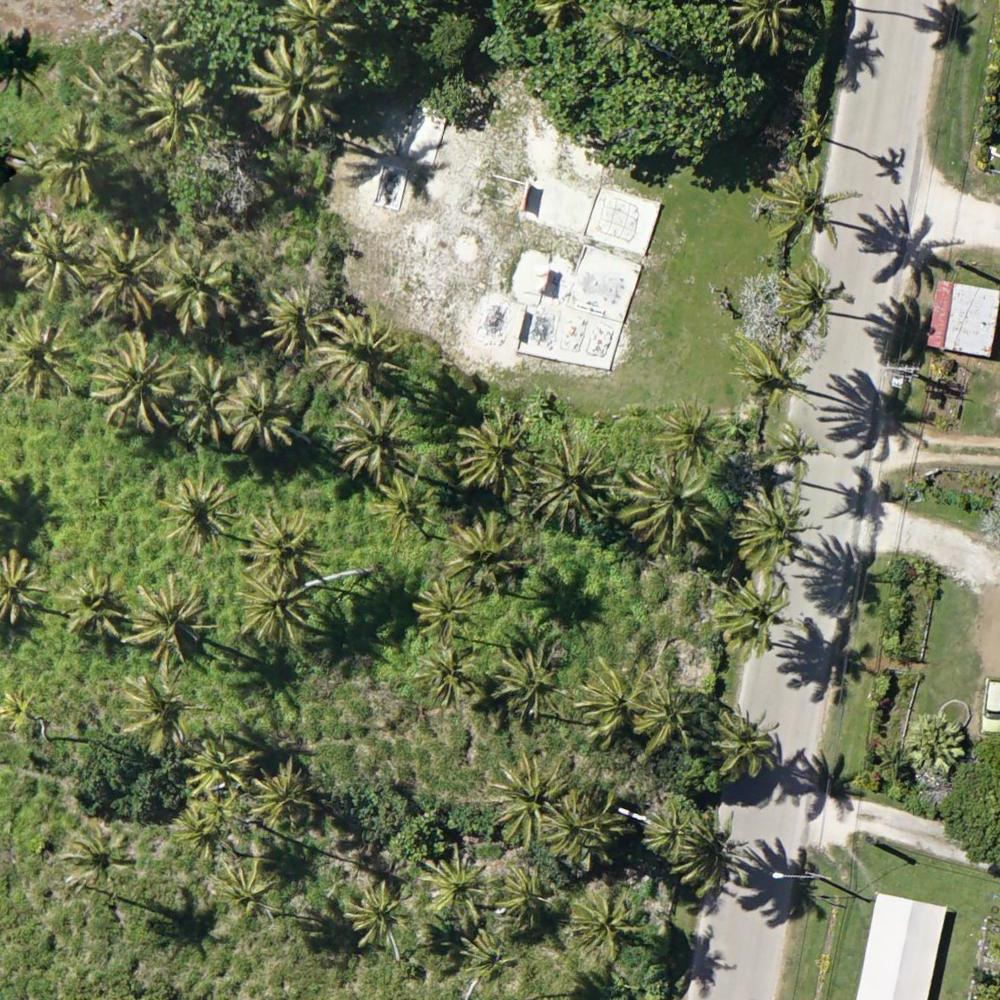Palm: (241, 34, 339, 138), (90, 333, 175, 428), (535, 436, 617, 527), (489, 757, 573, 845), (438, 517, 530, 596), (768, 162, 850, 250), (317, 312, 403, 395), (620, 465, 706, 547), (87, 228, 164, 319), (454, 415, 539, 494), (159, 238, 237, 323), (3, 316, 78, 401), (113, 676, 188, 761), (330, 402, 409, 482), (223, 369, 300, 451), (629, 675, 702, 759), (711, 574, 789, 650), (726, 493, 808, 565), (164, 478, 239, 556), (18, 216, 92, 294), (40, 116, 107, 202), (238, 577, 317, 648), (56, 566, 126, 644), (536, 799, 617, 866), (133, 584, 205, 659), (738, 338, 807, 415), (712, 702, 780, 780), (241, 512, 321, 577), (572, 666, 643, 739), (420, 851, 491, 923), (686, 812, 749, 892), (755, 422, 825, 492), (776, 257, 838, 335), (491, 656, 563, 723), (120, 23, 191, 90), (572, 889, 638, 961), (251, 761, 318, 831), (208, 862, 281, 925), (262, 281, 325, 352), (70, 828, 139, 892), (142, 78, 207, 145), (187, 733, 254, 798), (412, 579, 483, 640), (654, 398, 721, 460), (352, 886, 415, 951), (456, 926, 524, 986), (178, 358, 230, 434), (495, 861, 557, 923), (416, 646, 484, 702), (170, 805, 236, 862), (374, 479, 433, 538), (635, 799, 693, 858), (600, 2, 655, 54), (4, 688, 45, 735)
